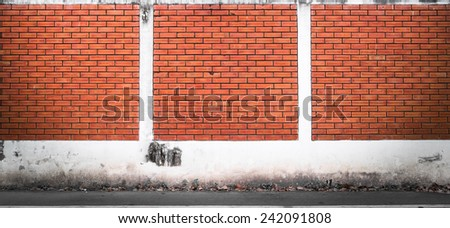Wall: (4, 3, 450, 89)
